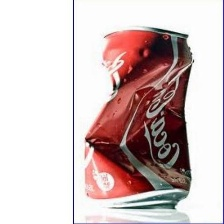can: (70, 22, 199, 212)
